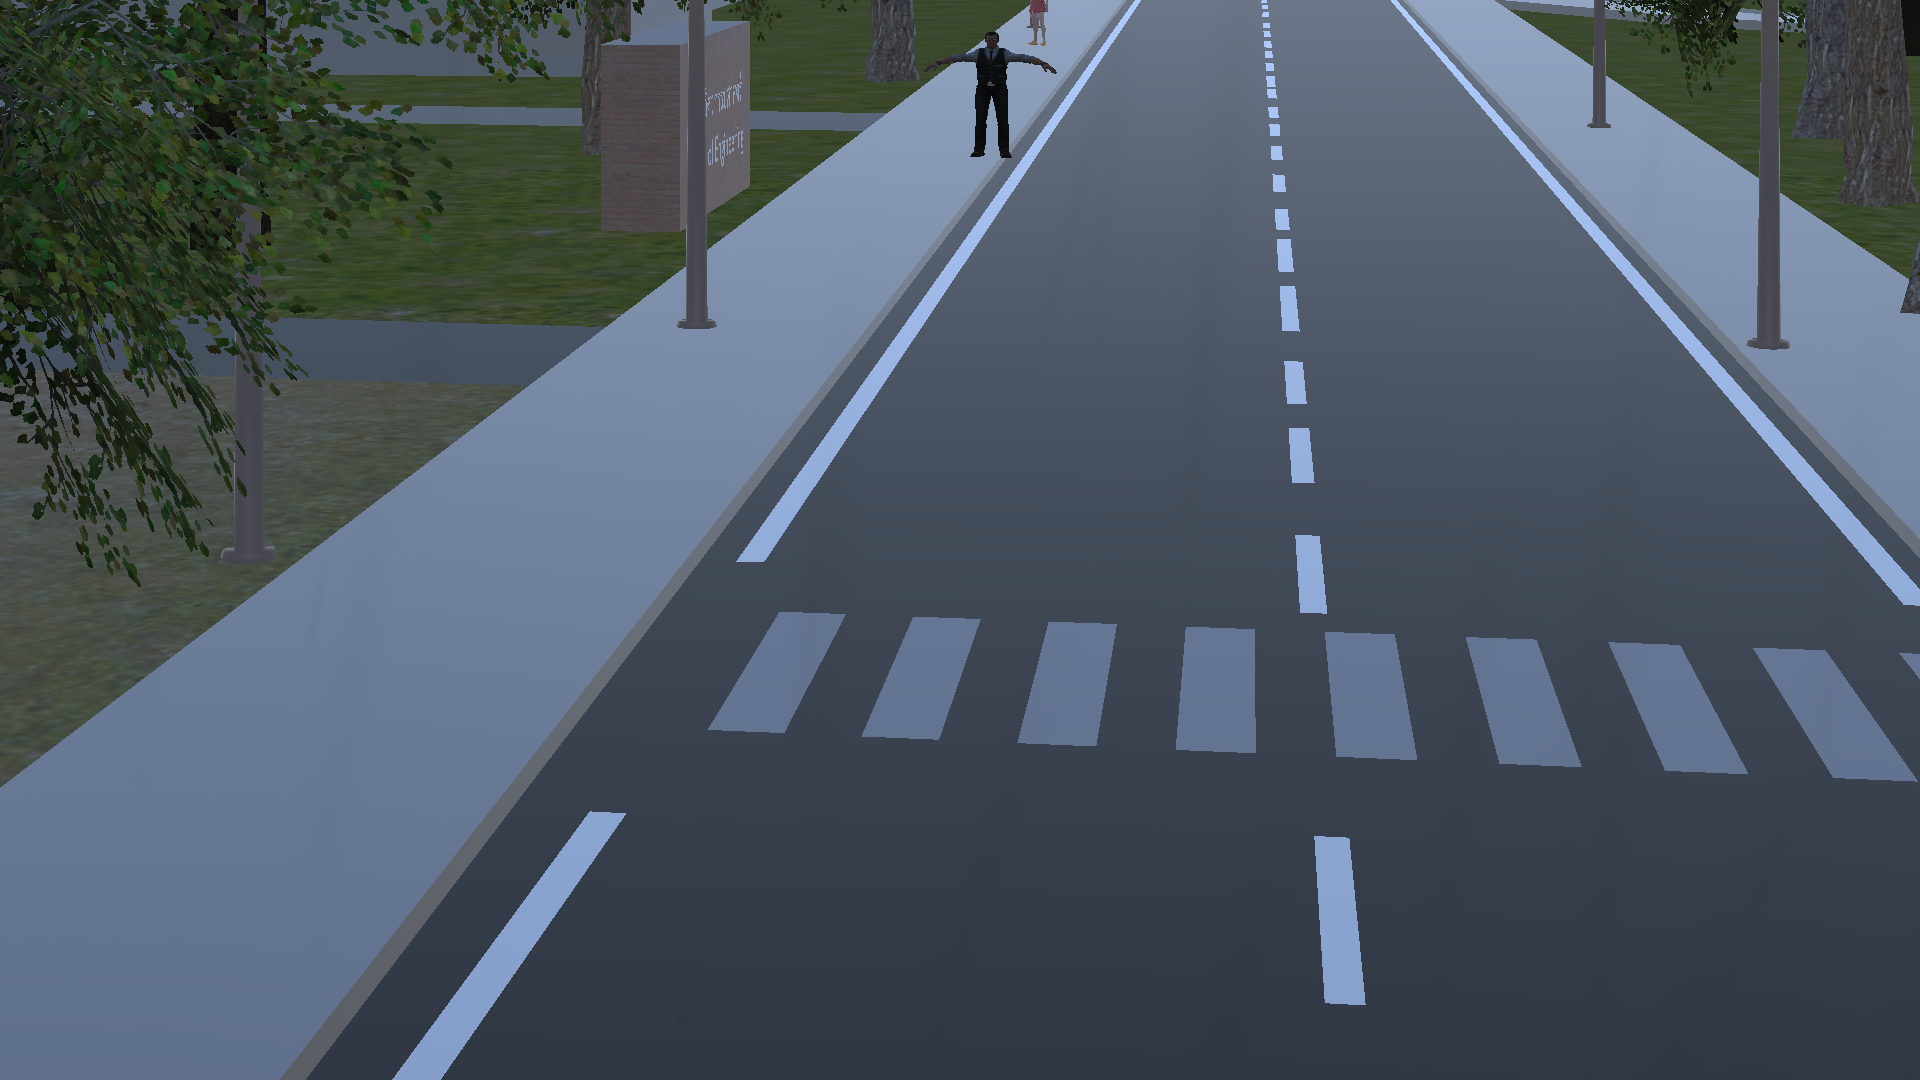pedestrian: (893, 15, 1058, 207), (1024, 3, 1070, 55)
